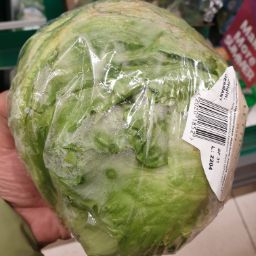Lettuce: (9, 2, 200, 256), (59, 32, 176, 209)
